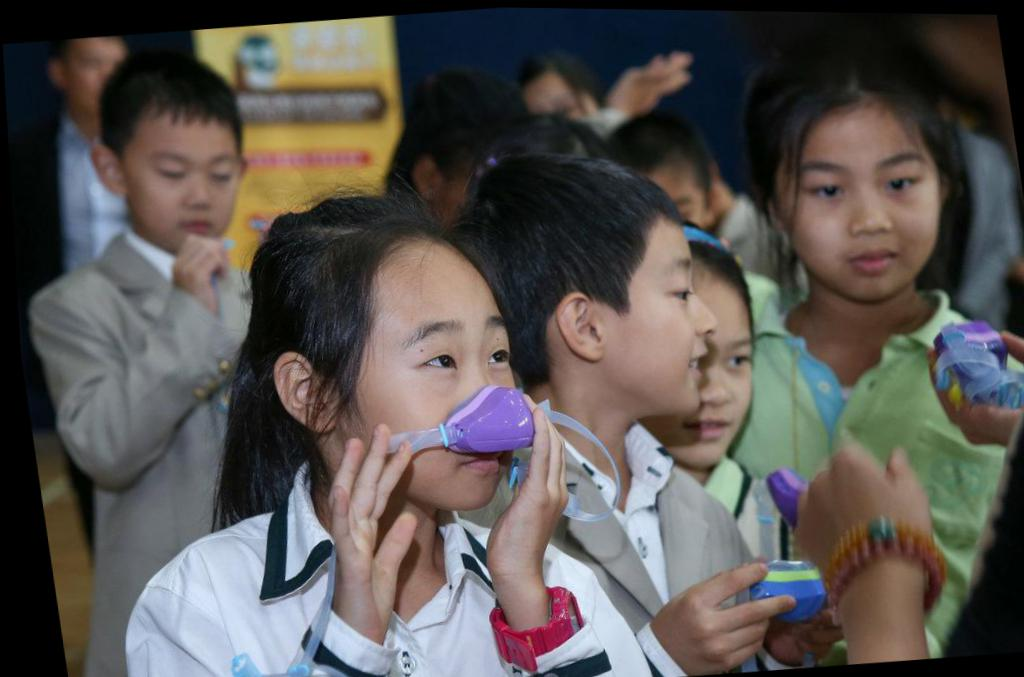NONE: (558, 256, 726, 427), (779, 145, 951, 301), (615, 324, 767, 470), (119, 128, 257, 255)
WRONG: (321, 301, 541, 513)
